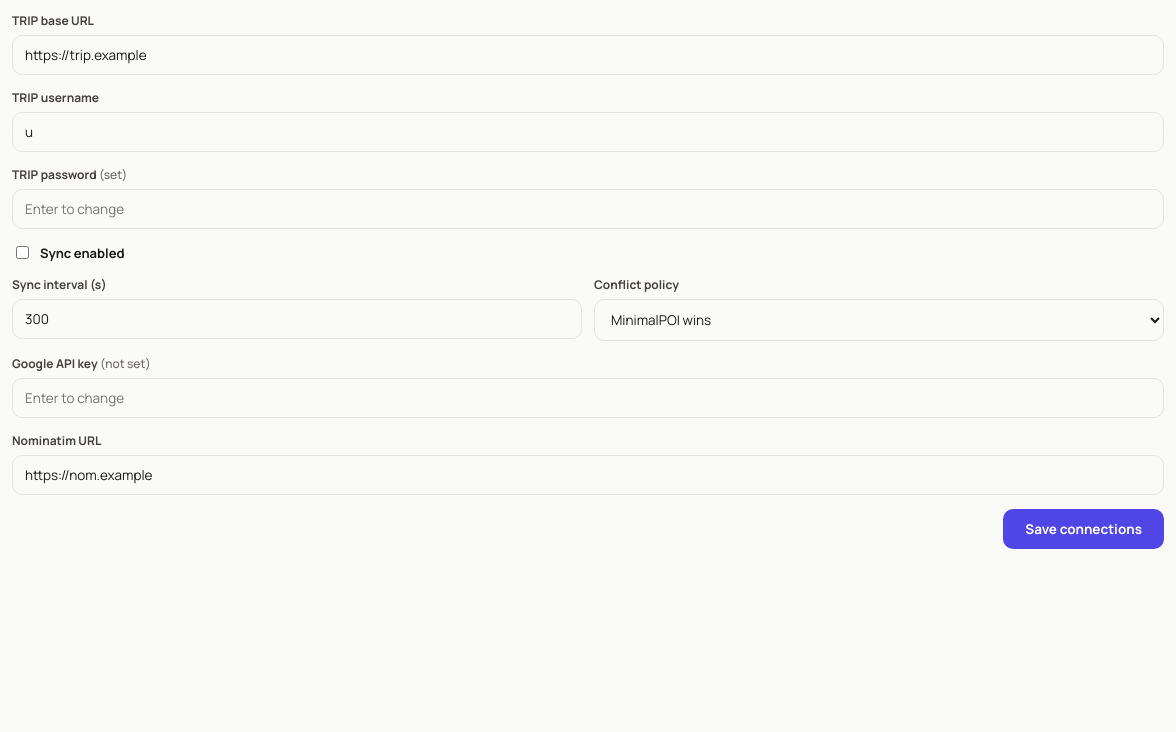
Test: ConnectionsSection › sends a secret only when entered
Expected: the field showing "https://trip.example" is shown, [12, 35, 1164, 75]
Type "newkey" into the password field labelled "Google API key (not set)" at (588, 398), box [12, 378, 1164, 418]
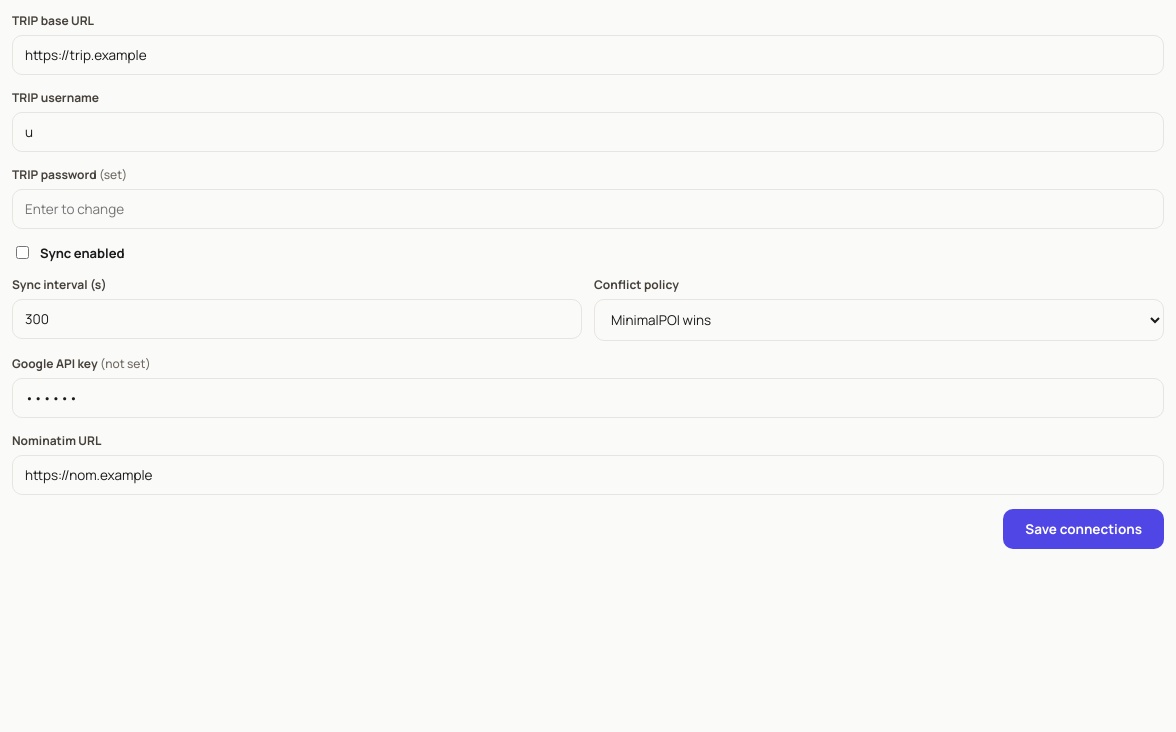
Click the button "Save connections" at (1084, 529), box [1003, 509, 1164, 549]
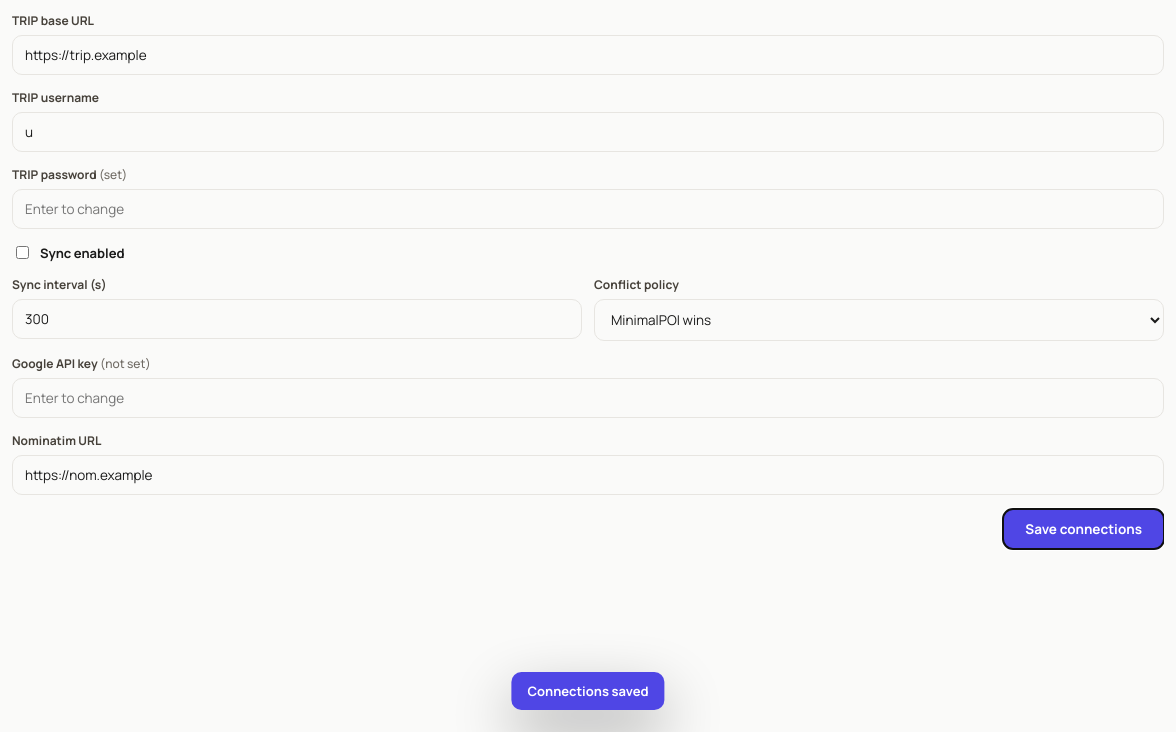
Result: the text "Connections saved" is shown at [511, 672, 665, 710]
